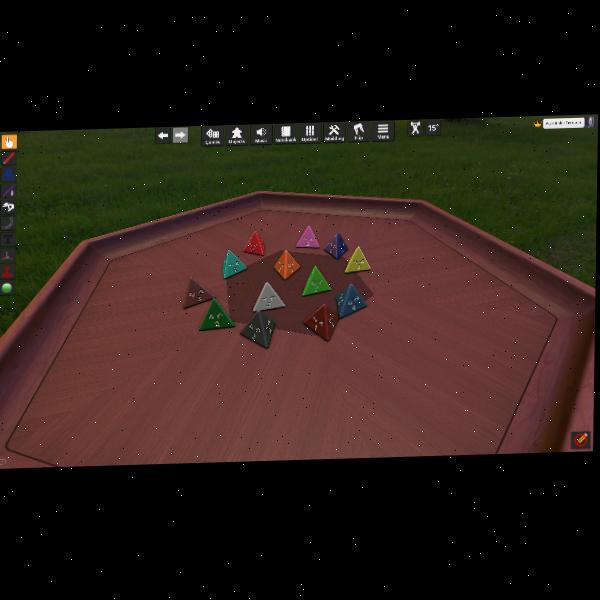d4: (239, 309, 277, 350), (303, 303, 337, 342), (199, 297, 235, 330), (335, 283, 366, 318), (183, 277, 216, 309), (253, 281, 286, 312), (303, 264, 330, 295), (274, 249, 298, 280), (345, 245, 371, 273), (223, 249, 247, 279), (325, 232, 348, 260), (296, 225, 319, 249), (244, 231, 265, 256)
